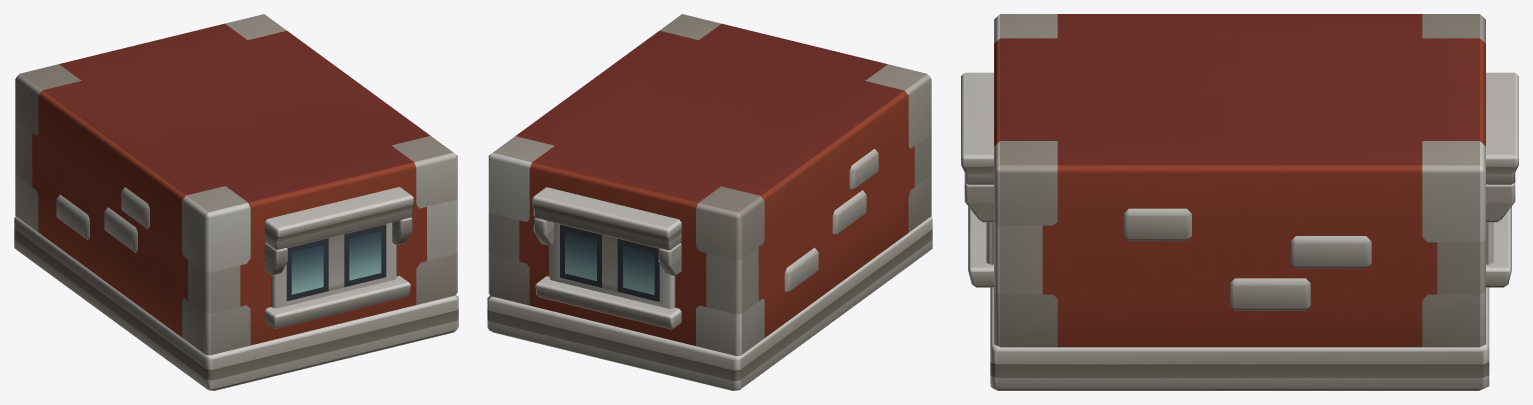
Rendered from appartment_type3_element_red.fbx.
3 renders of one model, left to right at view 1: azimuth 30°, elevation 25°; view 2: azimuth 150°, elevation 25°; view 3: azimuth 270°, elevation 25°, orthographic. The views are drawn at different scales.
Parts seen in each view (by area): view 1: appartment_type3_element_red; view 2: appartment_type3_element_red; view 3: appartment_type3_element_red.
Boxes of the visible parts, left/top/right/bottom form: appartment_type3_element_red: left=14, top=14, right=458, bottom=390; appartment_type3_element_red: left=487, top=14, right=932, bottom=390; appartment_type3_element_red: left=961, top=14, right=1518, bottom=390.
Bounding box in the file's own units: 628 × 409 × 918.
